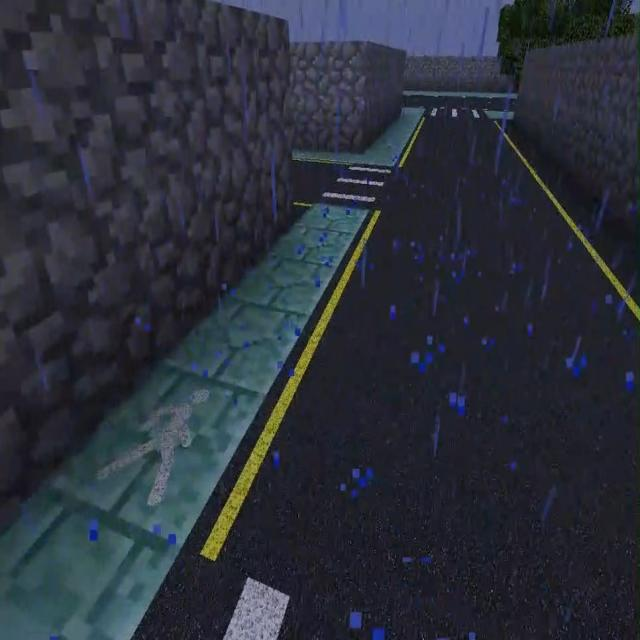8: (317, 166, 394, 204), (425, 107, 488, 119)
crosswalk: (138, 117, 638, 639), (292, 161, 345, 198), (403, 95, 519, 108)
road: (0, 206, 368, 639), (293, 105, 425, 165), (484, 110, 517, 119)
